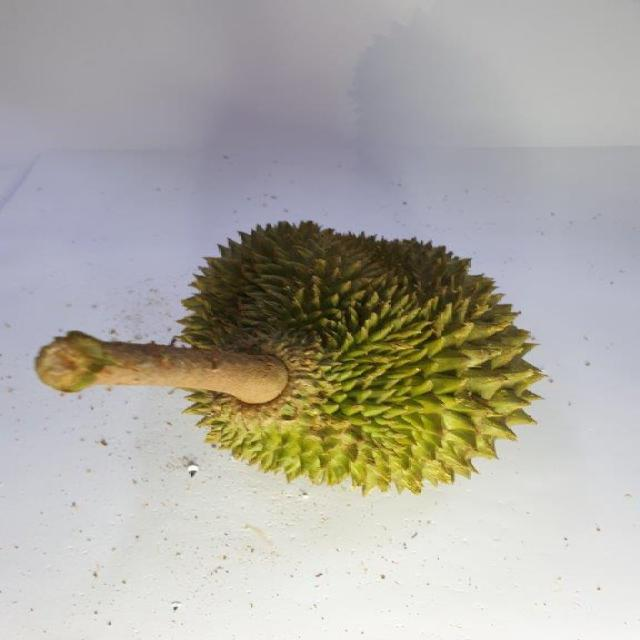immature: (170, 221, 552, 498)
